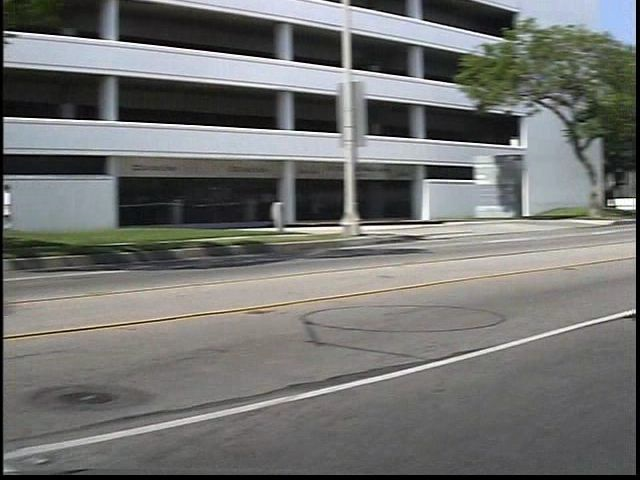person: (13, 178, 43, 246)
